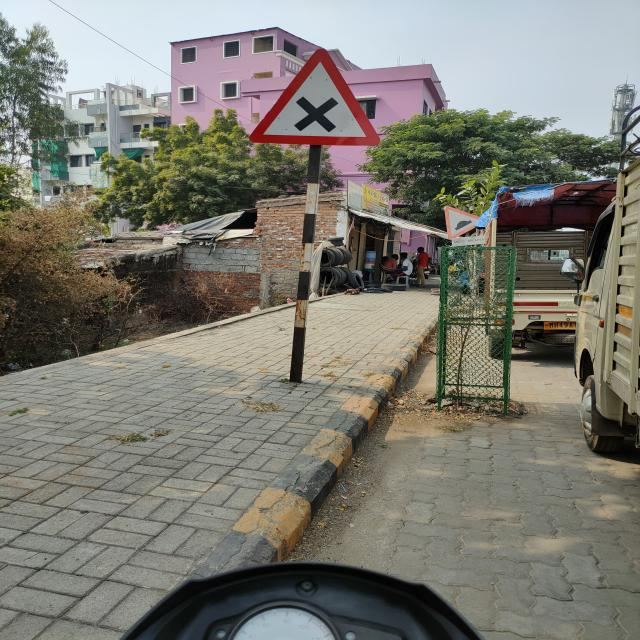cross road: (246, 46, 382, 148)
